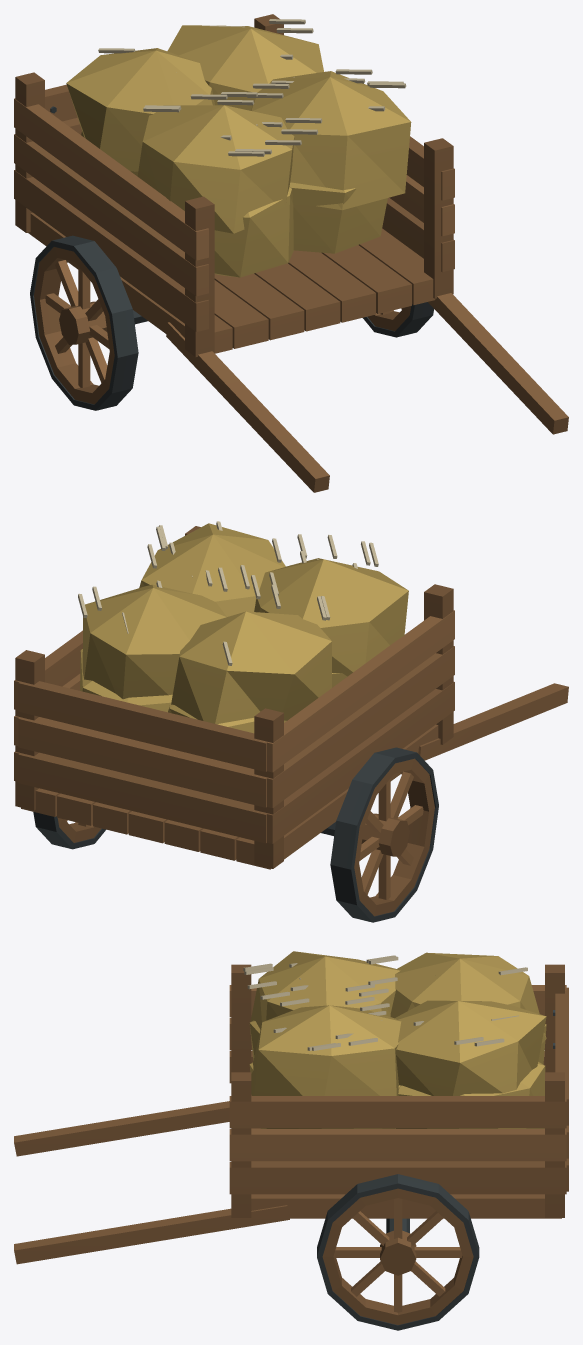
The model's file is town_cart_hay.glb.
The picture shows the model from 3 angles, top to bottom: view 1: azimuth 30°, elevation 25°; view 2: azimuth 150°, elevation 25°; view 3: azimuth 270°, elevation 25°; orthographic projection. The views are drawn at different scales.
Parts seen in each view (by area): view 1: town_cart_hay; view 2: town_cart_hay; view 3: town_cart_hay.
Part boxes in pixels (box(x1,y1,x2,y2)): town_cart_hay: box(14, 14, 568, 492); town_cart_hay: box(14, 521, 568, 922); town_cart_hay: box(14, 951, 568, 1330).
Bounding box in the file's own units: 1.94 × 1.69 × 3.05.
